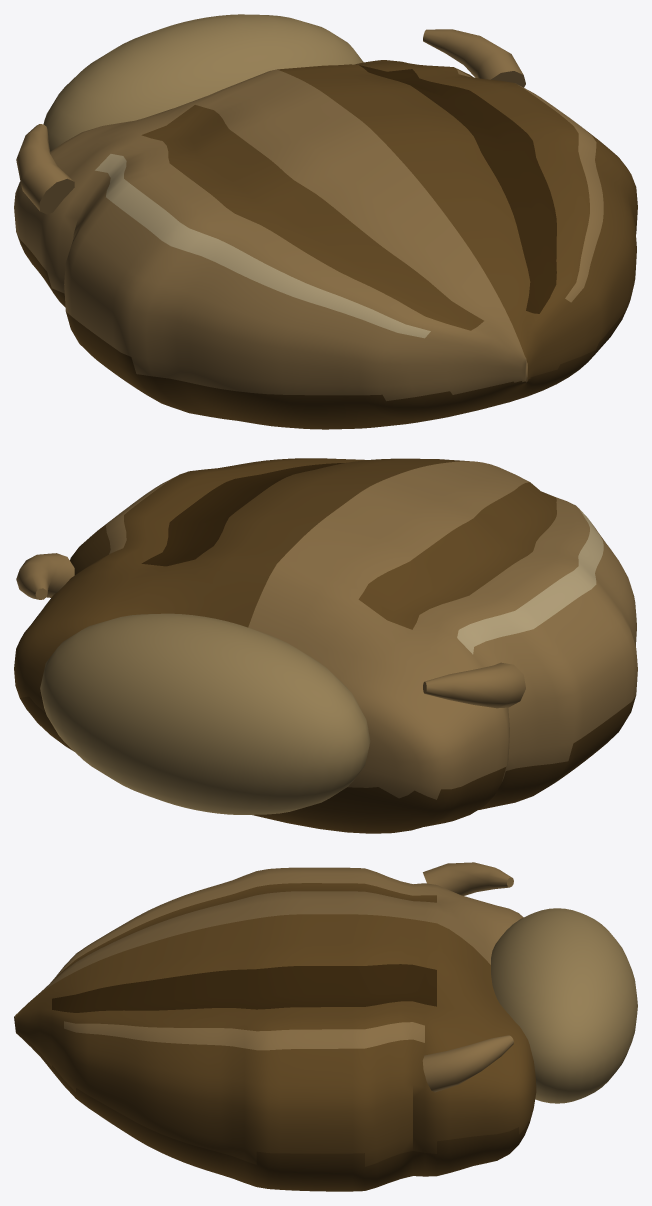
File: gyges_worm_tail.glb
3 renders of one model, top to bottom at view 1: azimuth 30°, elevation 25°; view 2: azimuth 150°, elevation 25°; view 3: azimuth 270°, elevation 25°, orthographic. The views are drawn at different scales.
Parts seen in each view (by area): view 1: gyges_worm_tail; view 2: gyges_worm_tail; view 3: gyges_worm_tail.
Part boxes in pixels (x1,y1,x2,y2): gyges_worm_tail: [14, 14, 637, 429]; gyges_worm_tail: [14, 458, 637, 833]; gyges_worm_tail: [14, 862, 637, 1191].
Bounding box in the file's own units: 20.8 × 10.2 × 25.93.
